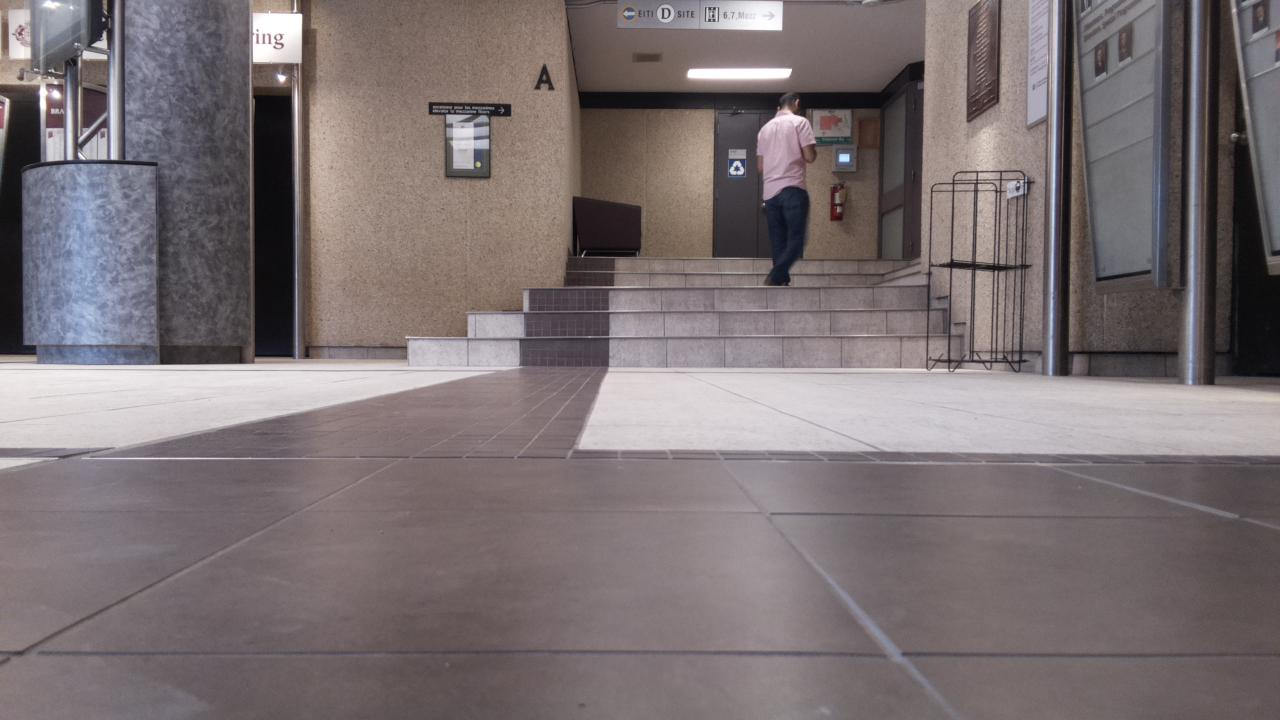person: (755, 90, 818, 285)
sign: (728, 159, 745, 176), (728, 149, 745, 158)
stair: (405, 285, 966, 369)
